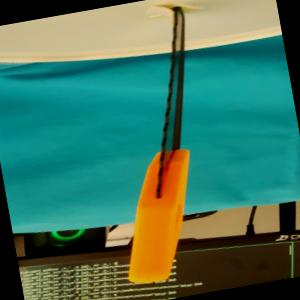serrote: (82, 3, 231, 285)
